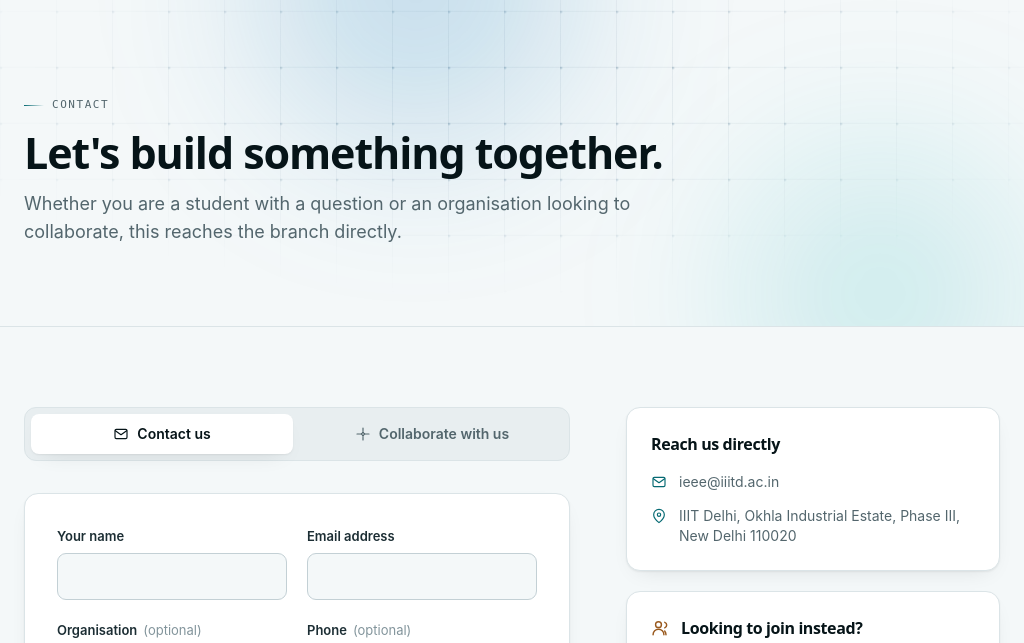
Test case: ContactPage › clears a field error as soon as the sender starts correcting it
The image size is (1024, 643).
Type "nope" into the field labelled "Email address" at (422, 576), box x1=307 y1=553 x2=537 y2=600
(page scrolled)
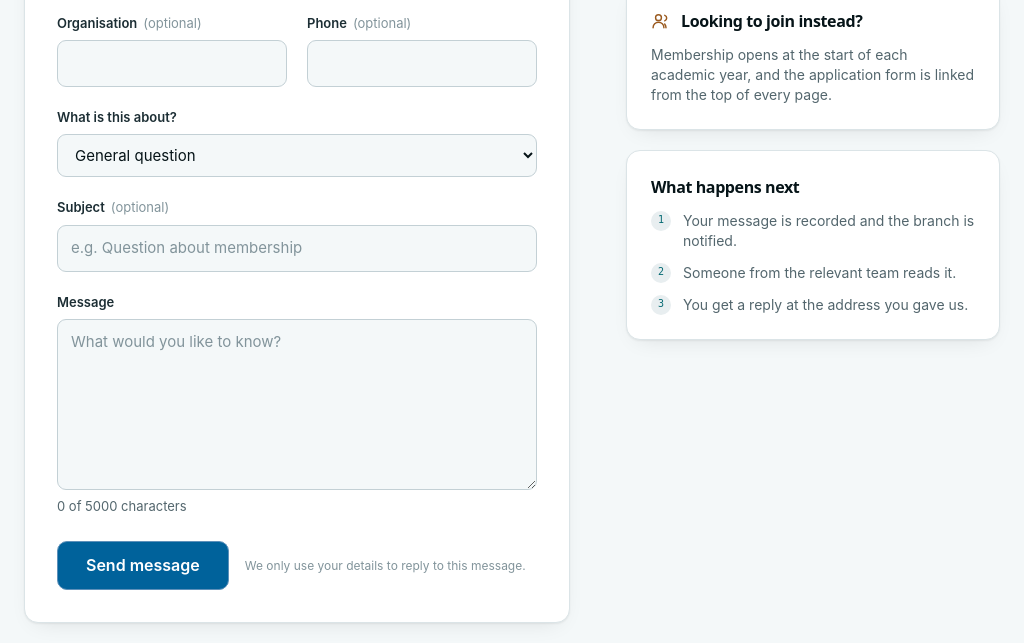
Click the button "Send message" at (143, 566), box x1=57 y1=541 x2=229 y2=590
(page scrolled)
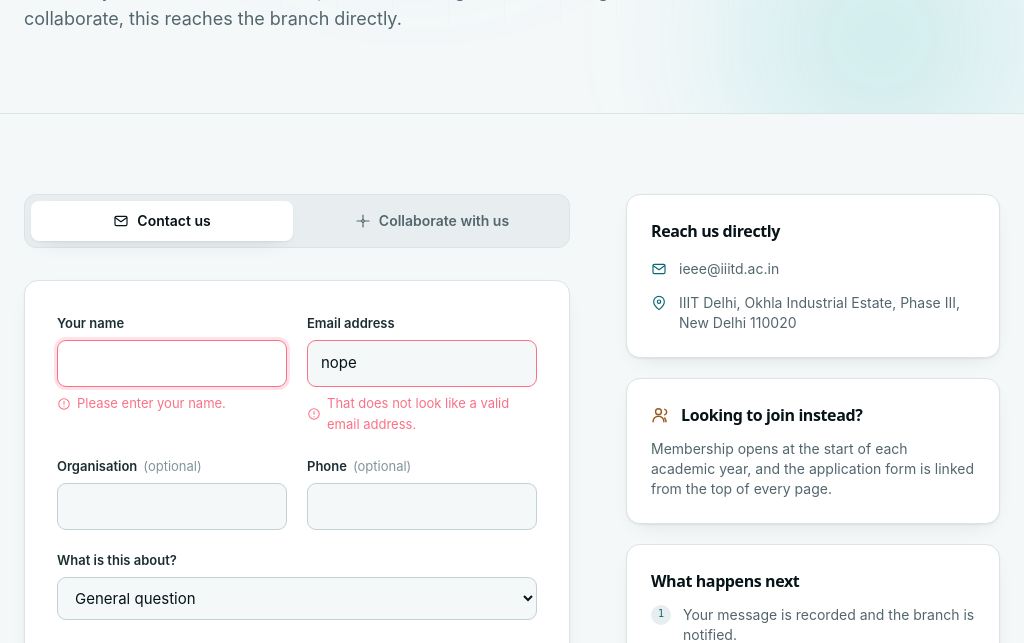
Expected: the text "That does not look like a valid email address." is shown, x1=307 y1=393 x2=537 y2=436
Type "@example.com" into the field labelled "Email address" at (422, 363), box x1=307 y1=340 x2=537 y2=387
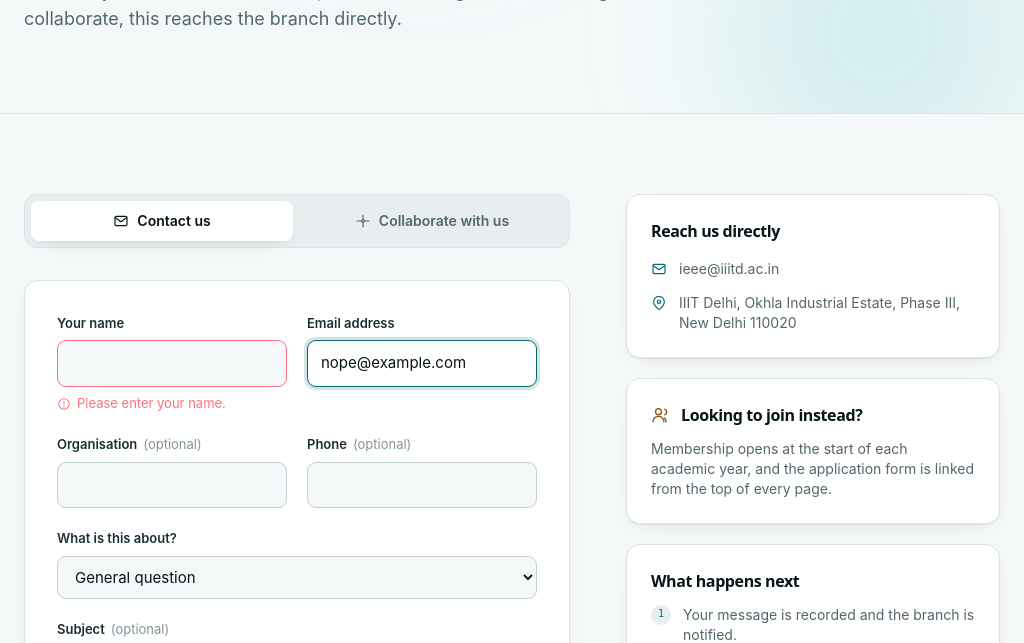
Expected: the text "valid email address" is gone
